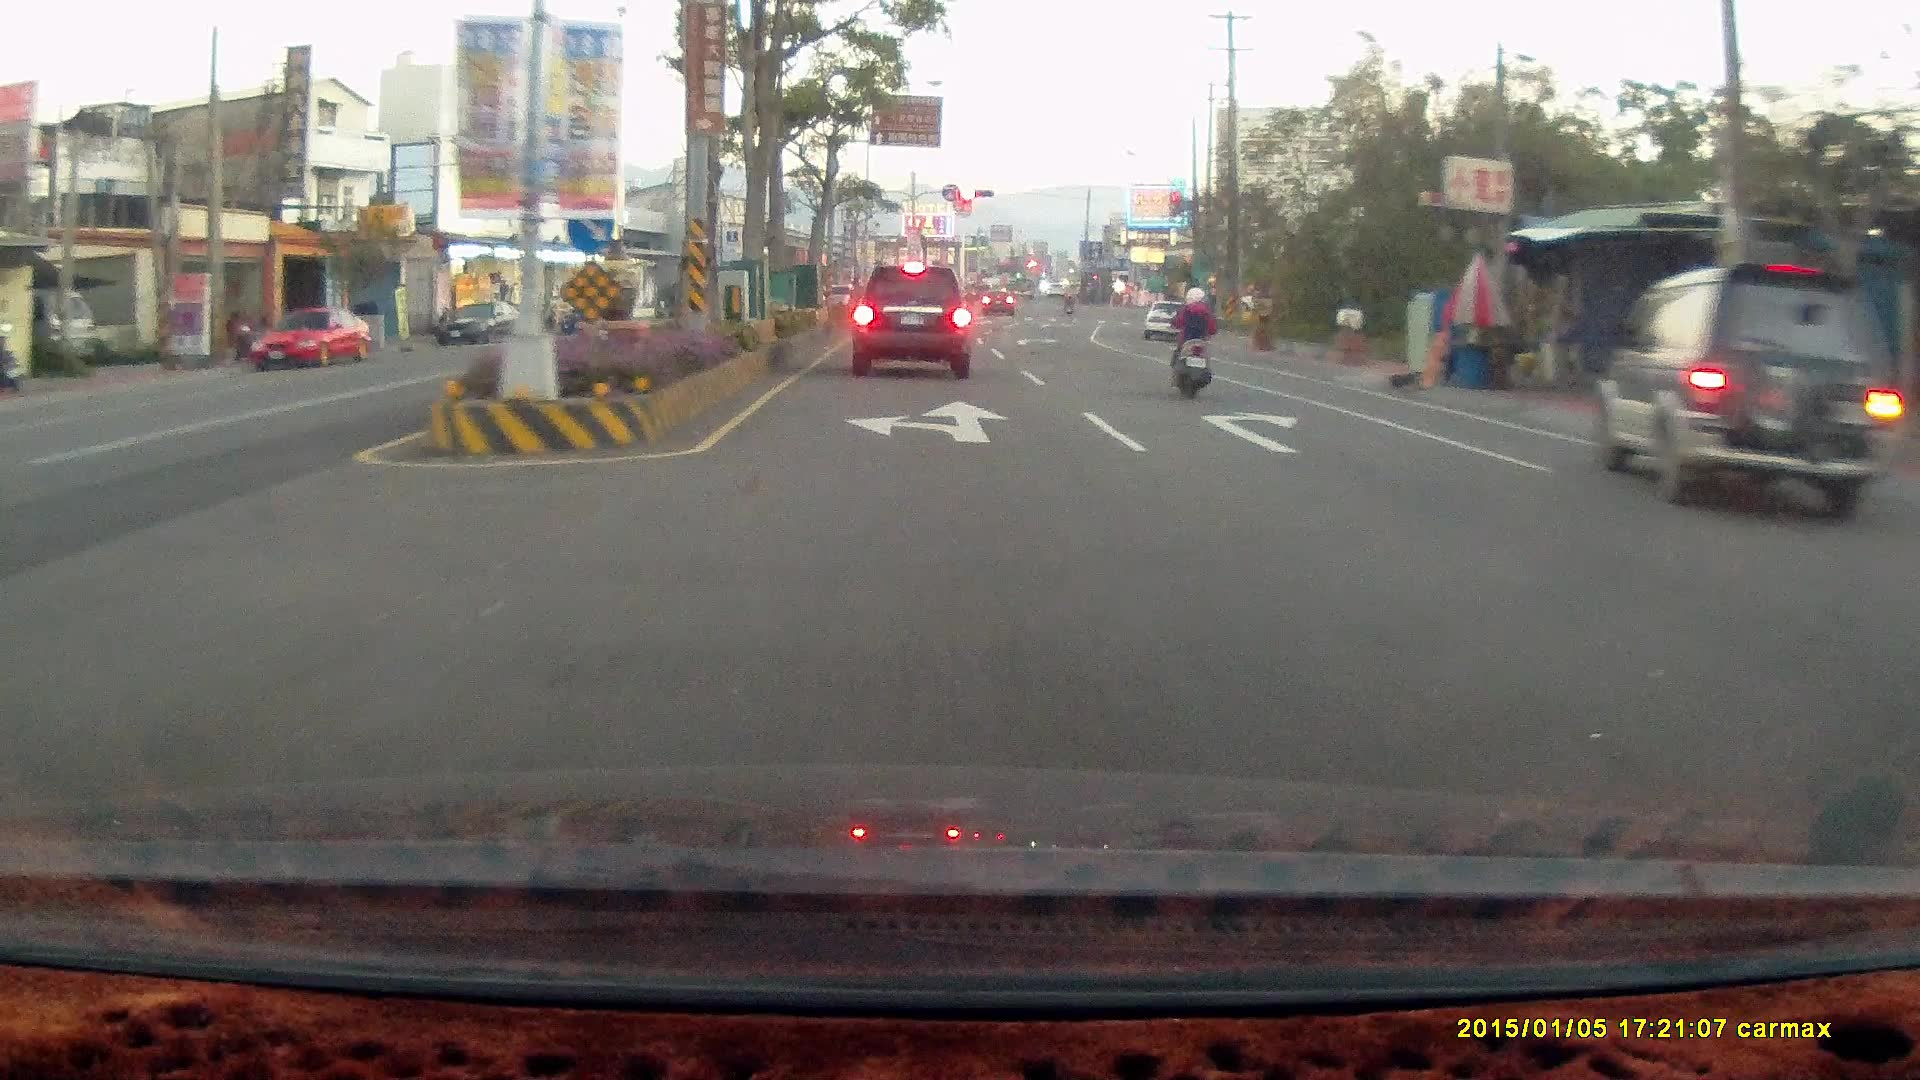rider: (1168, 281, 1220, 400)
vehicle: (1592, 263, 1902, 520), (1598, 265, 1900, 513), (849, 262, 969, 376), (251, 303, 379, 371), (248, 303, 374, 370), (1896, 493, 1920, 836), (1883, 528, 1920, 690), (440, 297, 530, 346), (1143, 300, 1194, 343), (1142, 300, 1195, 340)
